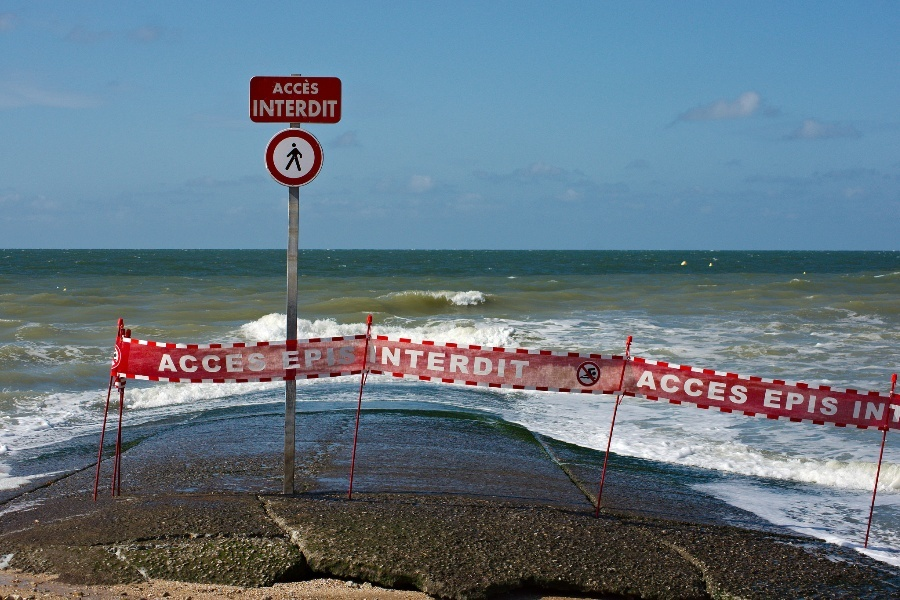text: (657, 368, 672, 407), (673, 368, 688, 407), (689, 368, 704, 407), (705, 368, 720, 407), (721, 368, 736, 407), (642, 368, 656, 407), (737, 368, 751, 407), (369, 344, 384, 380), (385, 344, 400, 380), (401, 344, 416, 380), (417, 344, 432, 380), (433, 344, 448, 380), (449, 344, 464, 380), (465, 344, 480, 380), (481, 344, 496, 380), (497, 344, 512, 380), (513, 344, 528, 380), (769, 387, 784, 417), (785, 387, 800, 417), (801, 387, 816, 417), (817, 387, 832, 417), (289, 345, 304, 372), (305, 345, 320, 372), (321, 345, 336, 372), (337, 345, 352, 372), (161, 352, 176, 374), (177, 352, 192, 374), (193, 352, 208, 374), (209, 352, 224, 374), (225, 352, 240, 374), (241, 352, 256, 374), (865, 400, 880, 422), (257, 99, 272, 119), (273, 99, 288, 119), (289, 99, 304, 119), (305, 99, 320, 119), (321, 99, 336, 119), (833, 387, 842, 417), (273, 78, 288, 95), (289, 78, 304, 95), (305, 78, 320, 95), (257, 352, 268, 374), (280, 345, 288, 372), (855, 400, 864, 422), (763, 387, 768, 417), (353, 345, 358, 372), (881, 400, 886, 422), (529, 344, 531, 380), (253, 99, 256, 119), (337, 99, 339, 119)
